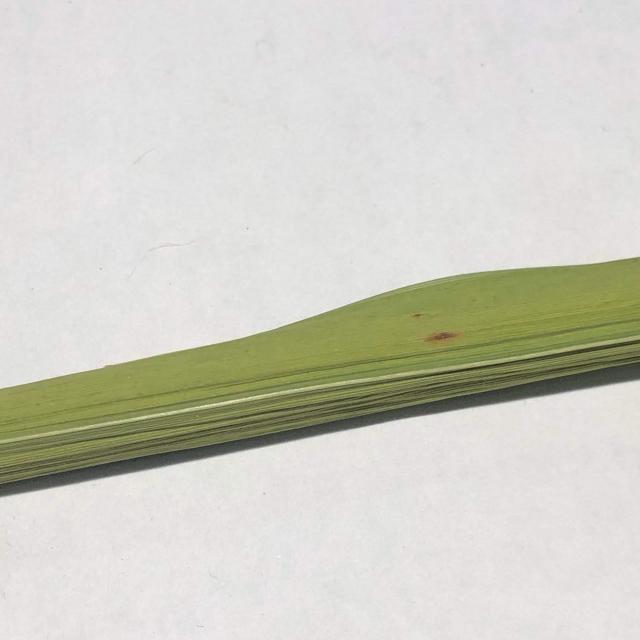brownspots: (422, 328, 461, 345), (405, 307, 429, 320)
